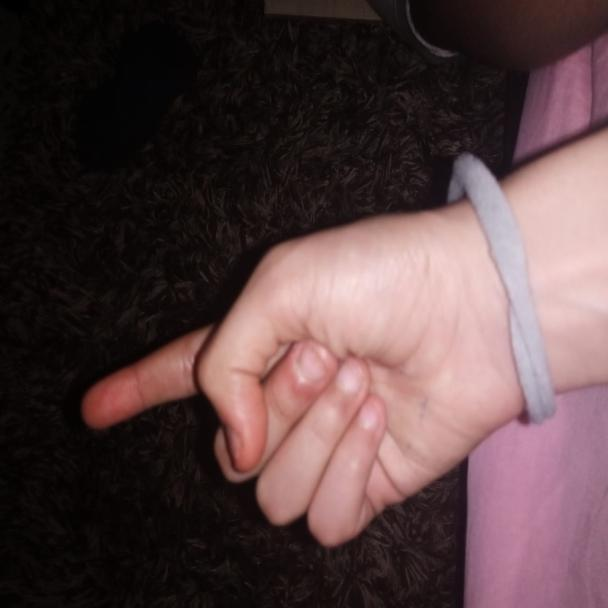one: (77, 210, 450, 548)
